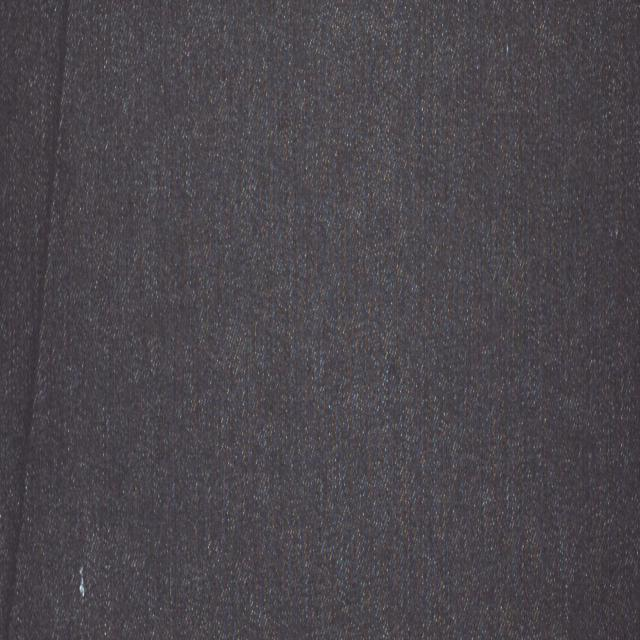Line: (4, 0, 74, 635)
